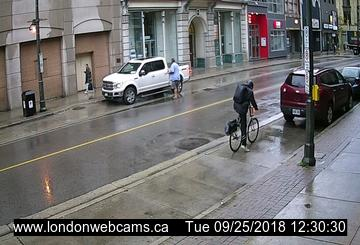Car: (278, 64, 355, 130), (100, 56, 195, 105)
person: (167, 56, 185, 101), (81, 62, 96, 97)
riding bicycle: (223, 77, 264, 153)
